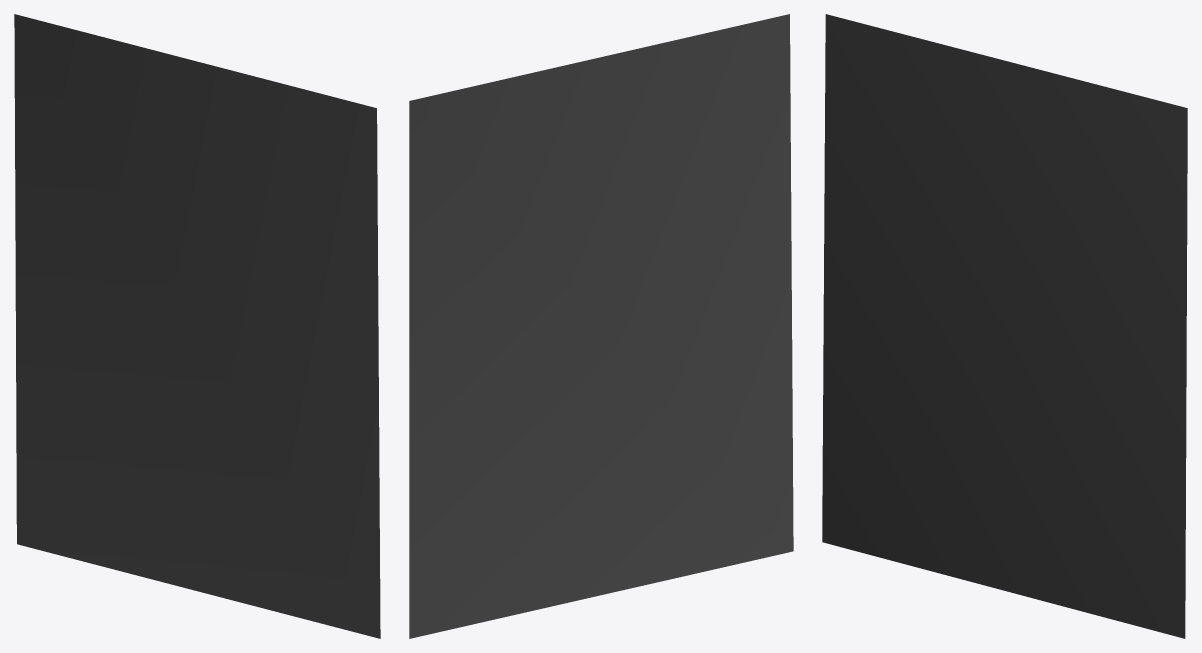
Rendered from Torso_2.obj.
The picture shows the model from 3 angles, left to right: view 1: azimuth 90°, elevation 25°; view 2: azimuth 150°, elevation 25°; view 3: azimuth 270°, elevation 25°; orthographic projection.
Size of the model in its own units: 0.0828 by 0.214 by 0.1337.
Materials: 1 (1 with a texture image).
